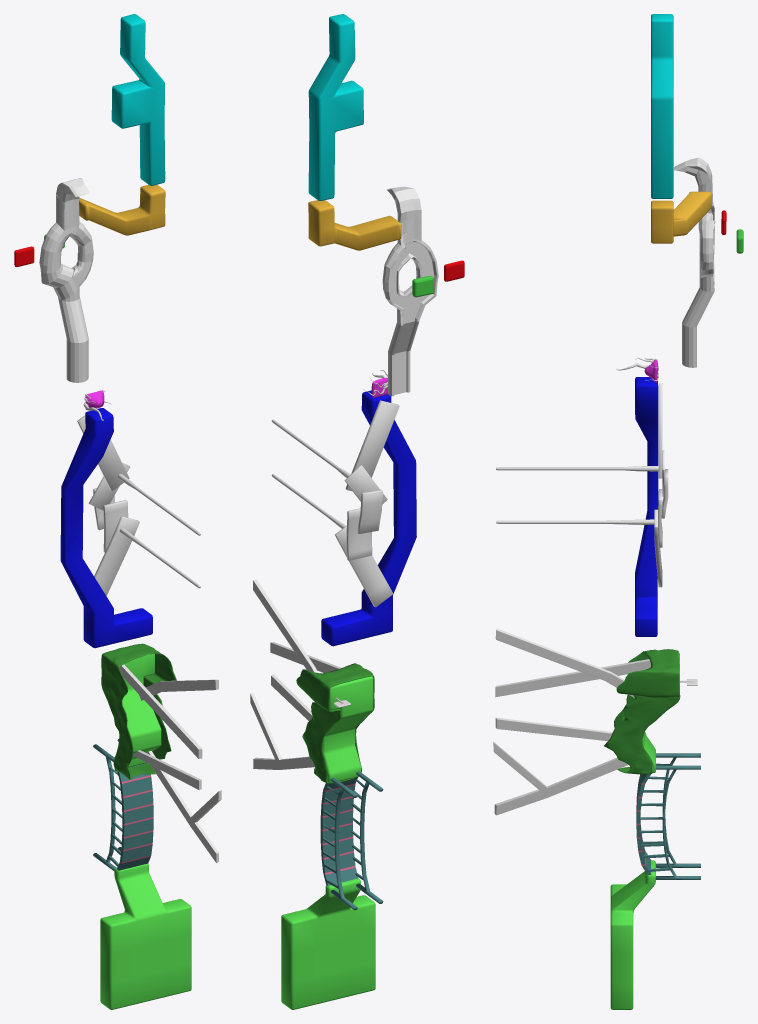
The model's file is Biome1Base.fbx.
3 renders of one model, left to right at view 1: azimuth 30°, elevation 25°; view 2: azimuth 210°, elevation 25°; view 3: azimuth 270°, elevation 25°, orthographic. The views are drawn at different scales.
Parts seen in each view (by area): view 1: Cube.009, Cube.004, Circle, Cube.006, Cube.008, Cube.010, Cube.011, Plane, Cube.005, Cube, Cylinder.001; view 2: Cube.009, Cube.004, Cube.006, Circle, Plane, Cube.011, Cube, Cube.008, Cube.010, Cube.005, Cylinder.001; view 3: Cube.008, Cube.010, Cube.004, Cube.006, Cube.009, Circle, Cube.011, Cube.005, Plane, Cylinder.001.
Part boxes in pixels (x1,y1,x2,y2): Cube.009: (100, 863, 191, 1009); Cube.004: (60, 408, 152, 648); Circle: (39, 178, 93, 382); Cube.006: (111, 14, 165, 185); Cube.008: (119, 664, 221, 862); Cube.010: (101, 643, 176, 779); Cube.011: (93, 739, 153, 870); Plane: (77, 415, 139, 595); Cube.005: (79, 184, 165, 235); Cube: (114, 654, 161, 767); Cylinder.001: (117, 473, 200, 588); Cube.009: (281, 878, 375, 1009); Cube.004: (321, 390, 416, 646); Cube.006: (308, 14, 363, 200); Circle: (382, 186, 438, 396); Plane: (335, 400, 399, 607); Cube.011: (320, 771, 383, 910); Cube: (322, 676, 373, 783); Cube.008: (250, 579, 341, 769); Cube.010: (296, 663, 374, 783); Cube.005: (308, 200, 401, 250); Cylinder.001: (271, 419, 350, 528); Cube.008: (493, 628, 650, 815); Cube.010: (604, 649, 680, 774); Cube.004: (635, 377, 658, 636); Cube.006: (651, 14, 673, 198); Cube.009: (610, 860, 655, 1009); Circle: (674, 157, 715, 367); Cube.011: (636, 753, 700, 879); Cube.005: (651, 191, 711, 243); Plane: (654, 383, 668, 587); Cylinder.001: (496, 466, 658, 524).
Bounding box in the file's own units: 12.59 × 94.68 × 21.97.
